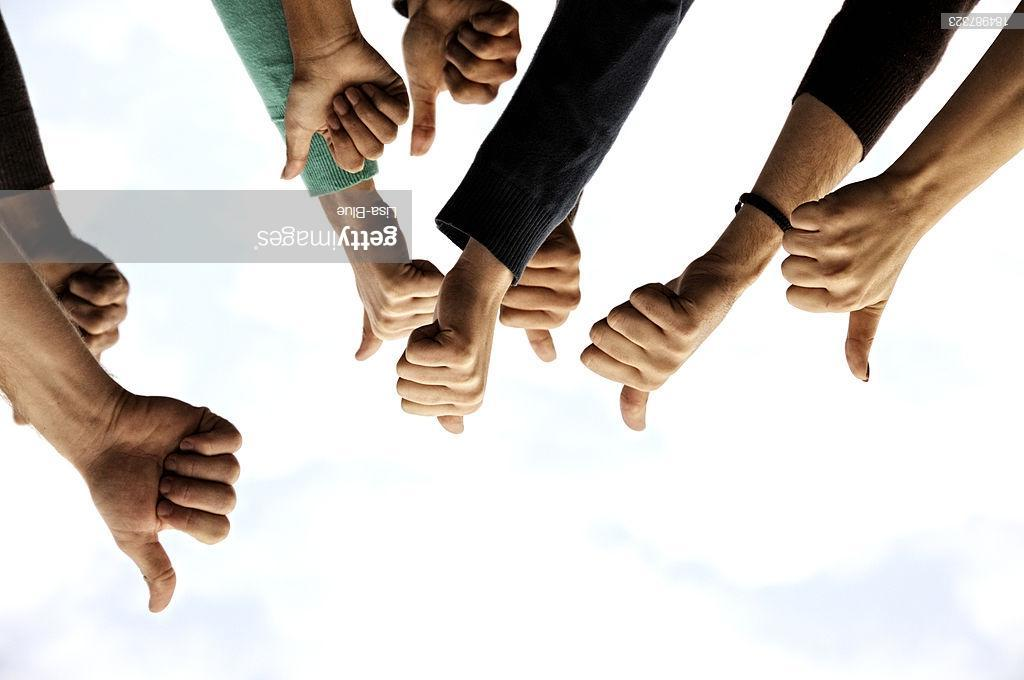thumbsdown: (139, 403, 242, 615), (780, 181, 881, 383), (580, 281, 703, 432), (409, 6, 524, 159), (279, 74, 409, 182), (354, 270, 446, 362), (502, 255, 580, 362)
